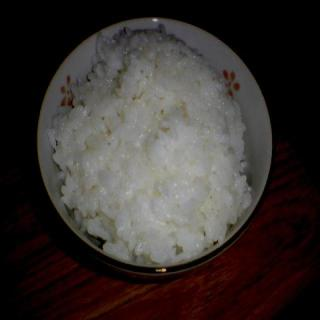Nasi: (44, 23, 256, 265)
